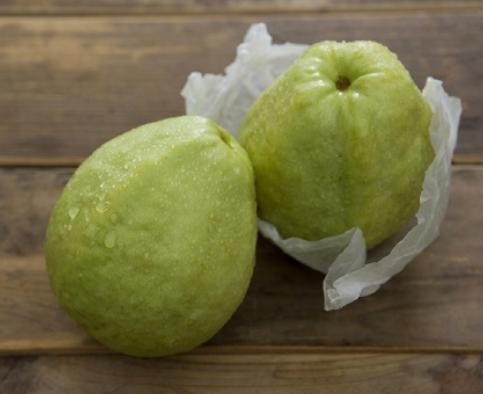guava_A: (44, 115, 258, 360), (239, 40, 436, 259)
